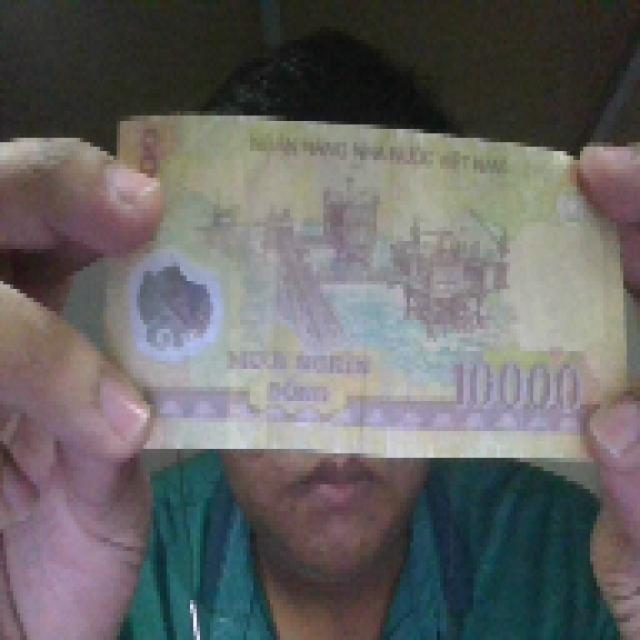10 000 VND: (83, 102, 637, 462)
